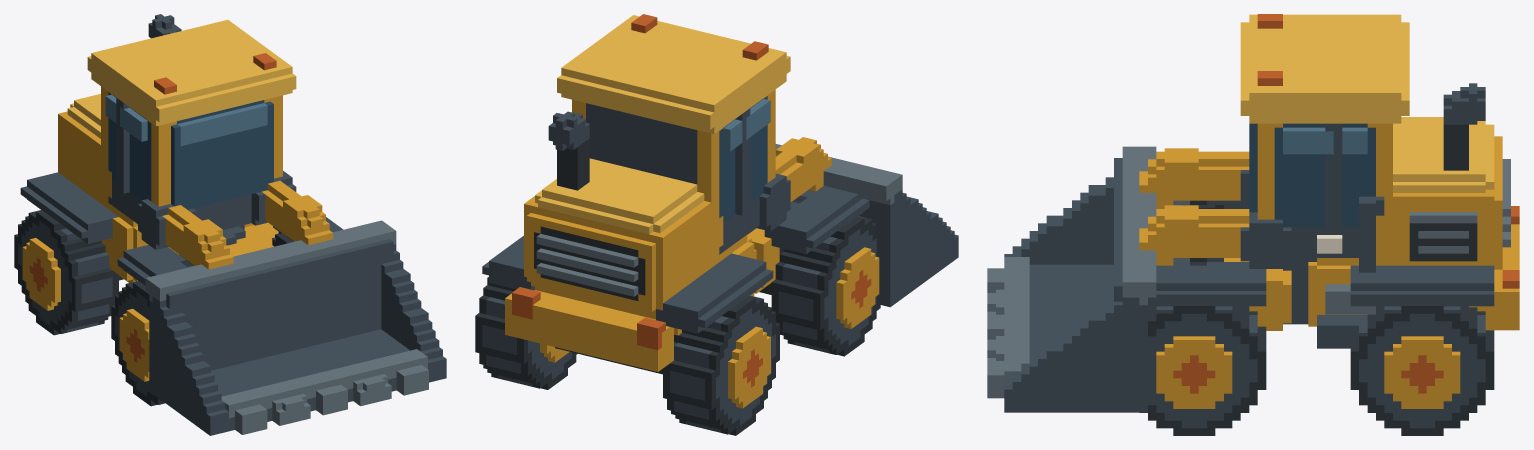
Rendered from wheel_loader.glb.
The picture shows the model from 3 angles, left to right: view 1: azimuth 30°, elevation 25°; view 2: azimuth 150°, elevation 25°; view 3: azimuth 270°, elevation 25°; orthographic projection. The views are drawn at different scales.
Visible parts, largest first — view 1: wheel_loader; view 2: wheel_loader; view 3: wheel_loader.
Boxes of the visible parts, x1,y1,x2,y2 form: wheel_loader: (14, 14, 446, 435); wheel_loader: (475, 14, 958, 435); wheel_loader: (987, 14, 1519, 435).
Bounding box in the file's own units: 3.8 × 4.3 × 6.3.
